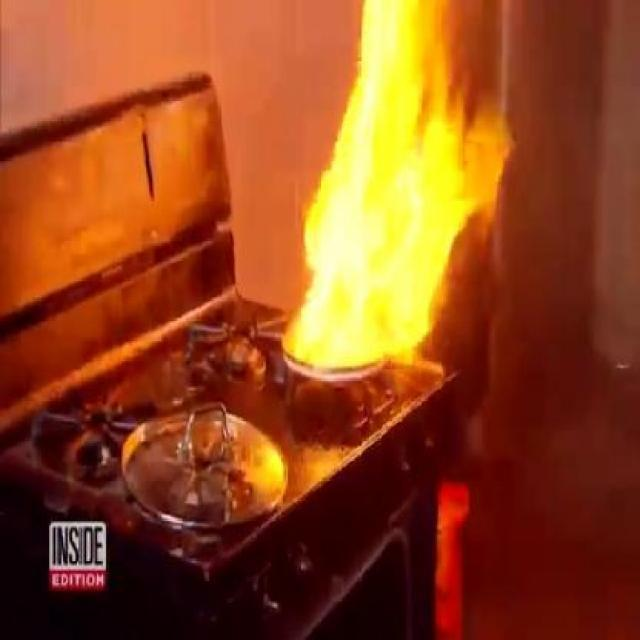fire: (294, 38, 452, 380)
